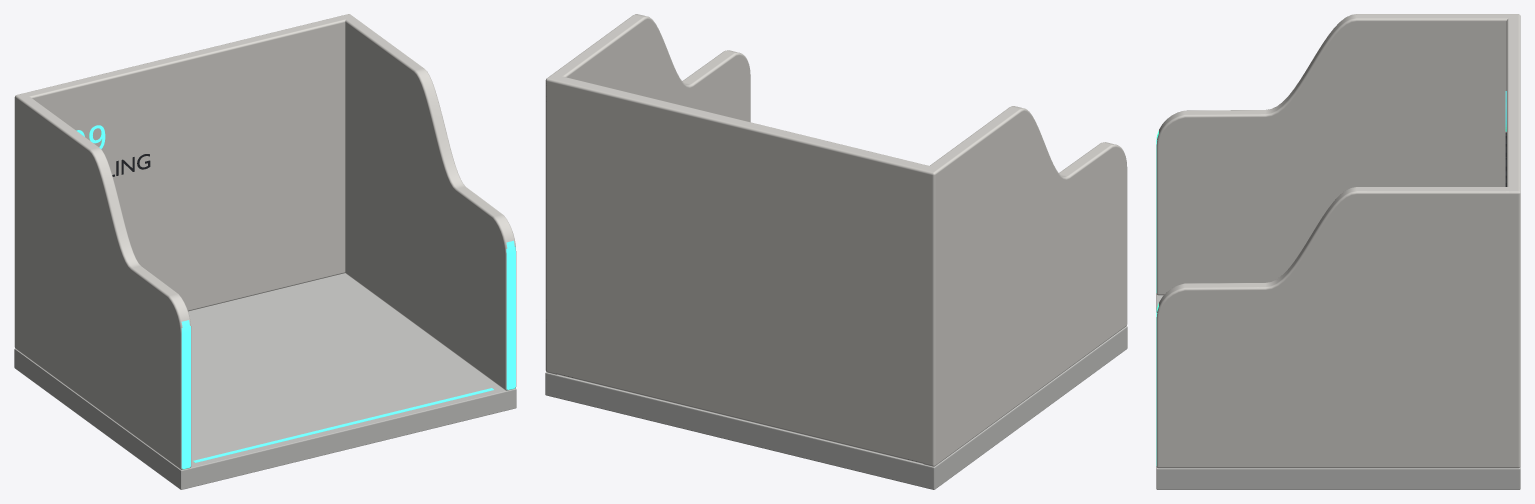
File: Room_09_scaling.glb
3 renders of one model, left to right at view 1: azimuth 30°, elevation 25°; view 2: azimuth 150°, elevation 25°; view 3: azimuth 270°, elevation 25°, orthographic. The views are drawn at different scales.
Parts seen in each view (by area): view 1: Walls, Floor, Accent; view 2: Walls, Floor; view 3: Walls, Floor.
Part boxes in pixels (left/top/right/bottom): Walls: left=14, top=14, right=516, bottom=469; Floor: left=14, top=273, right=516, bottom=489; Accent: left=193, top=388, right=493, bottom=462; Walls: left=545, top=14, right=1127, bottom=466; Floor: left=545, top=326, right=1127, bottom=489; Walls: left=1156, top=14, right=1520, bottom=468; Floor: left=1156, top=294, right=1520, bottom=489.
Size of the model in its own units: 3.6 by 2.8 by 3.1.
